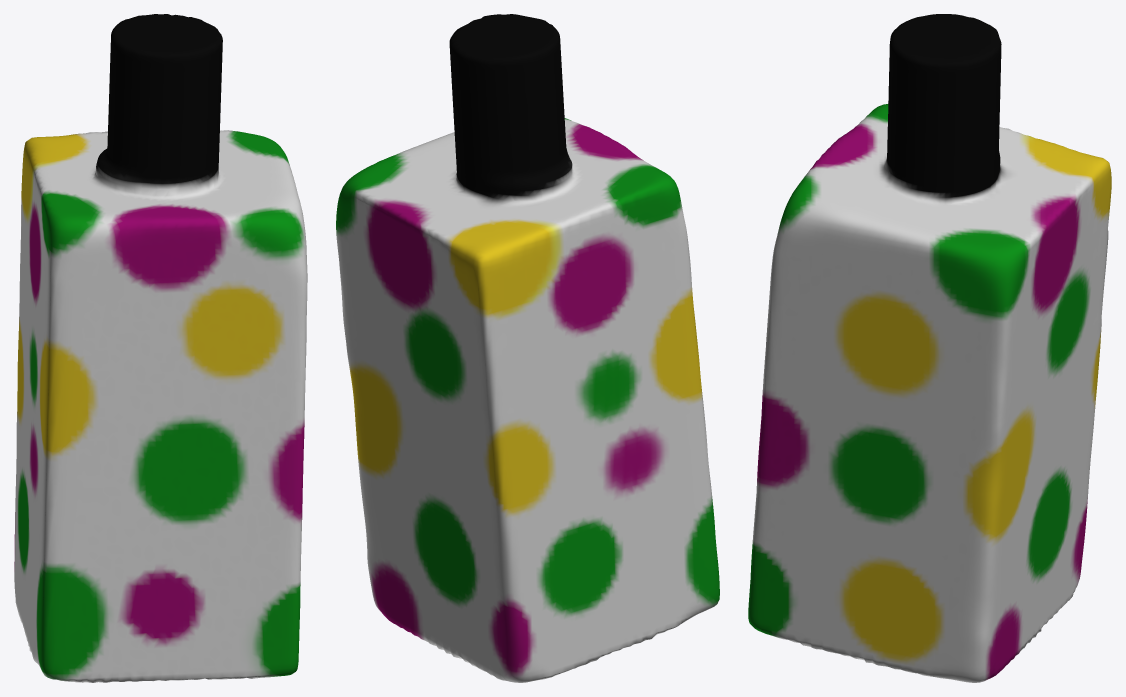
3 renders of one model, left to right at view 1: azimuth 30°, elevation 25°; view 2: azimuth 150°, elevation 25°; view 3: azimuth 270°, elevation 25°, orthographic.
Parts seen in each view (by area): view 1: ReferenceModel_Selection_13; view 2: ReferenceModel_Selection_13; view 3: ReferenceModel_Selection_13.
Part boxes in pixels (left/top/right/bottom): ReferenceModel_Selection_13: left=14, top=14, right=307, bottom=682; ReferenceModel_Selection_13: left=336, top=14, right=719, bottom=682; ReferenceModel_Selection_13: left=748, top=14, right=1111, bottom=682.
Bounding box in the file's own units: 24.91 × 45.79 × 25.27.
